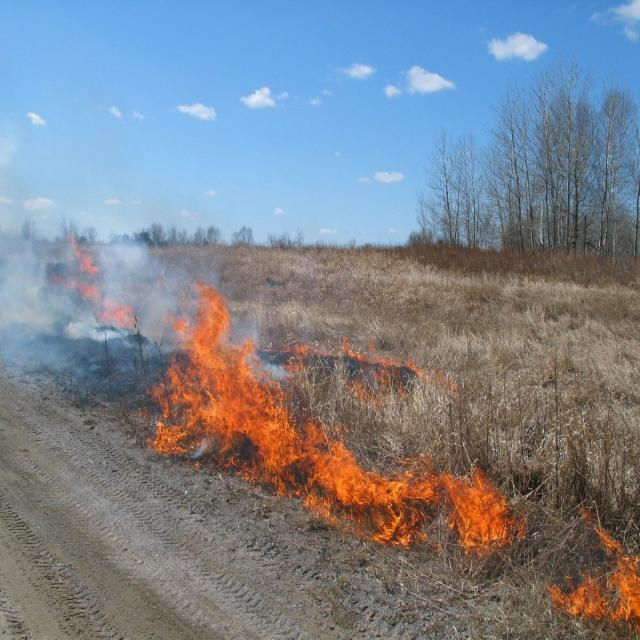Fire: (142, 276, 308, 486), (286, 435, 532, 564)
Smoke: (3, 186, 206, 429)
